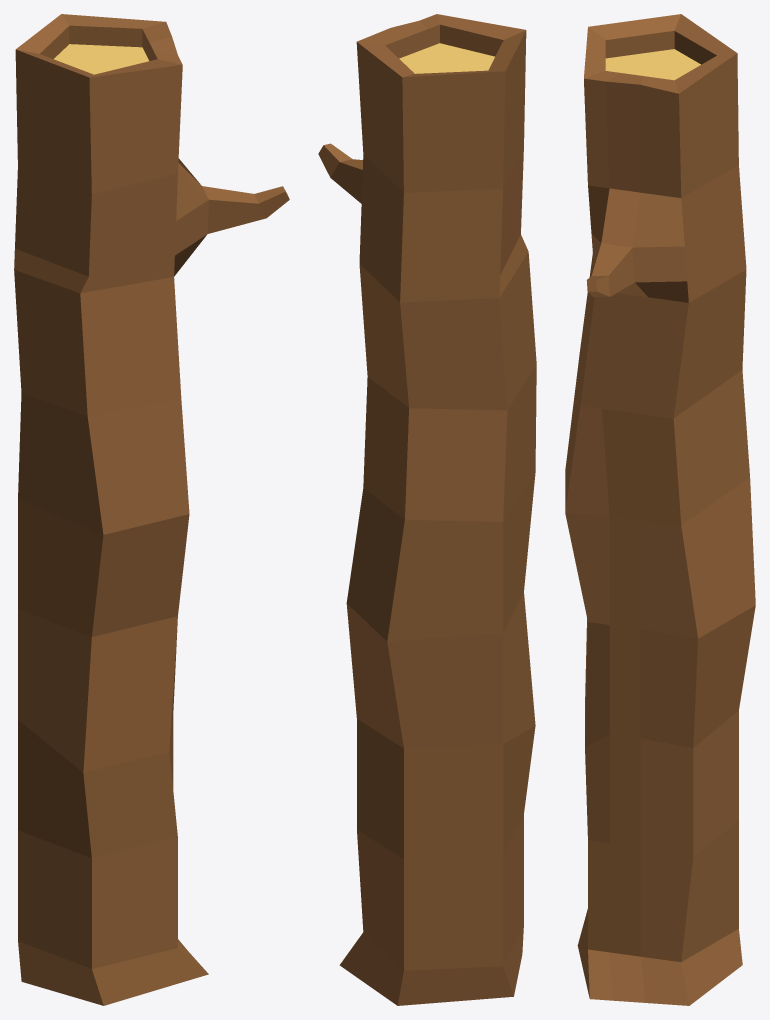
Rendered from log.gltf.
The picture shows the model from 3 angles, left to right: view 1: azimuth 30°, elevation 25°; view 2: azimuth 150°, elevation 25°; view 3: azimuth 270°, elevation 25°; orthographic projection.
Visible parts, largest first — view 1: Cylinder, Cylinder.001; view 2: Cylinder, Cylinder.001; view 3: Cylinder, Cylinder.001.
Part boxes in pixels (box(x1,y1,x2,y2)): Cylinder: box(14, 14, 289, 1005); Cylinder.001: box(54, 44, 148, 74); Cylinder: box(318, 14, 536, 1005); Cylinder.001: box(399, 43, 494, 73); Cylinder: box(565, 14, 755, 1005); Cylinder.001: box(605, 49, 700, 80).
Bounding box in the file's own units: 0.4718 × 1.81 × 0.3427.
